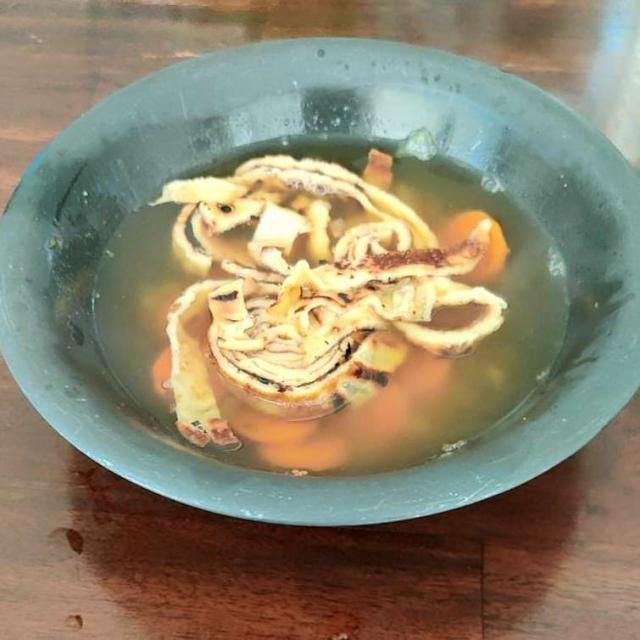carrot: (145, 205, 504, 472)
omelette: (171, 138, 504, 460)
